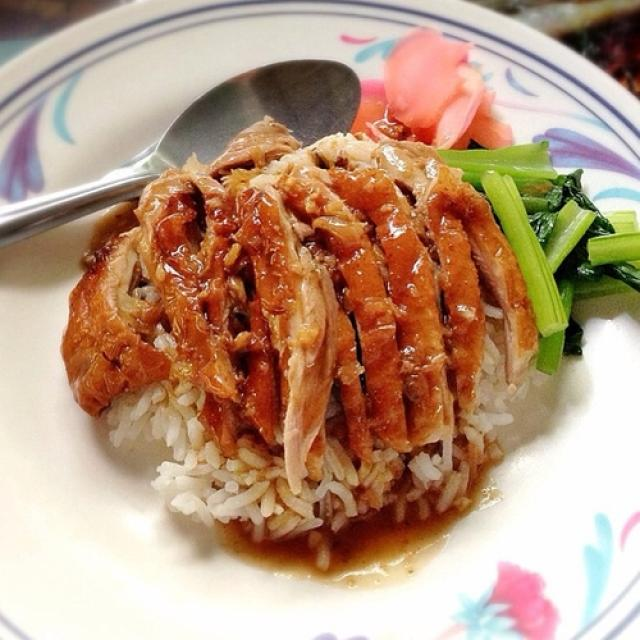米饭主食: (33, 52, 626, 589)
